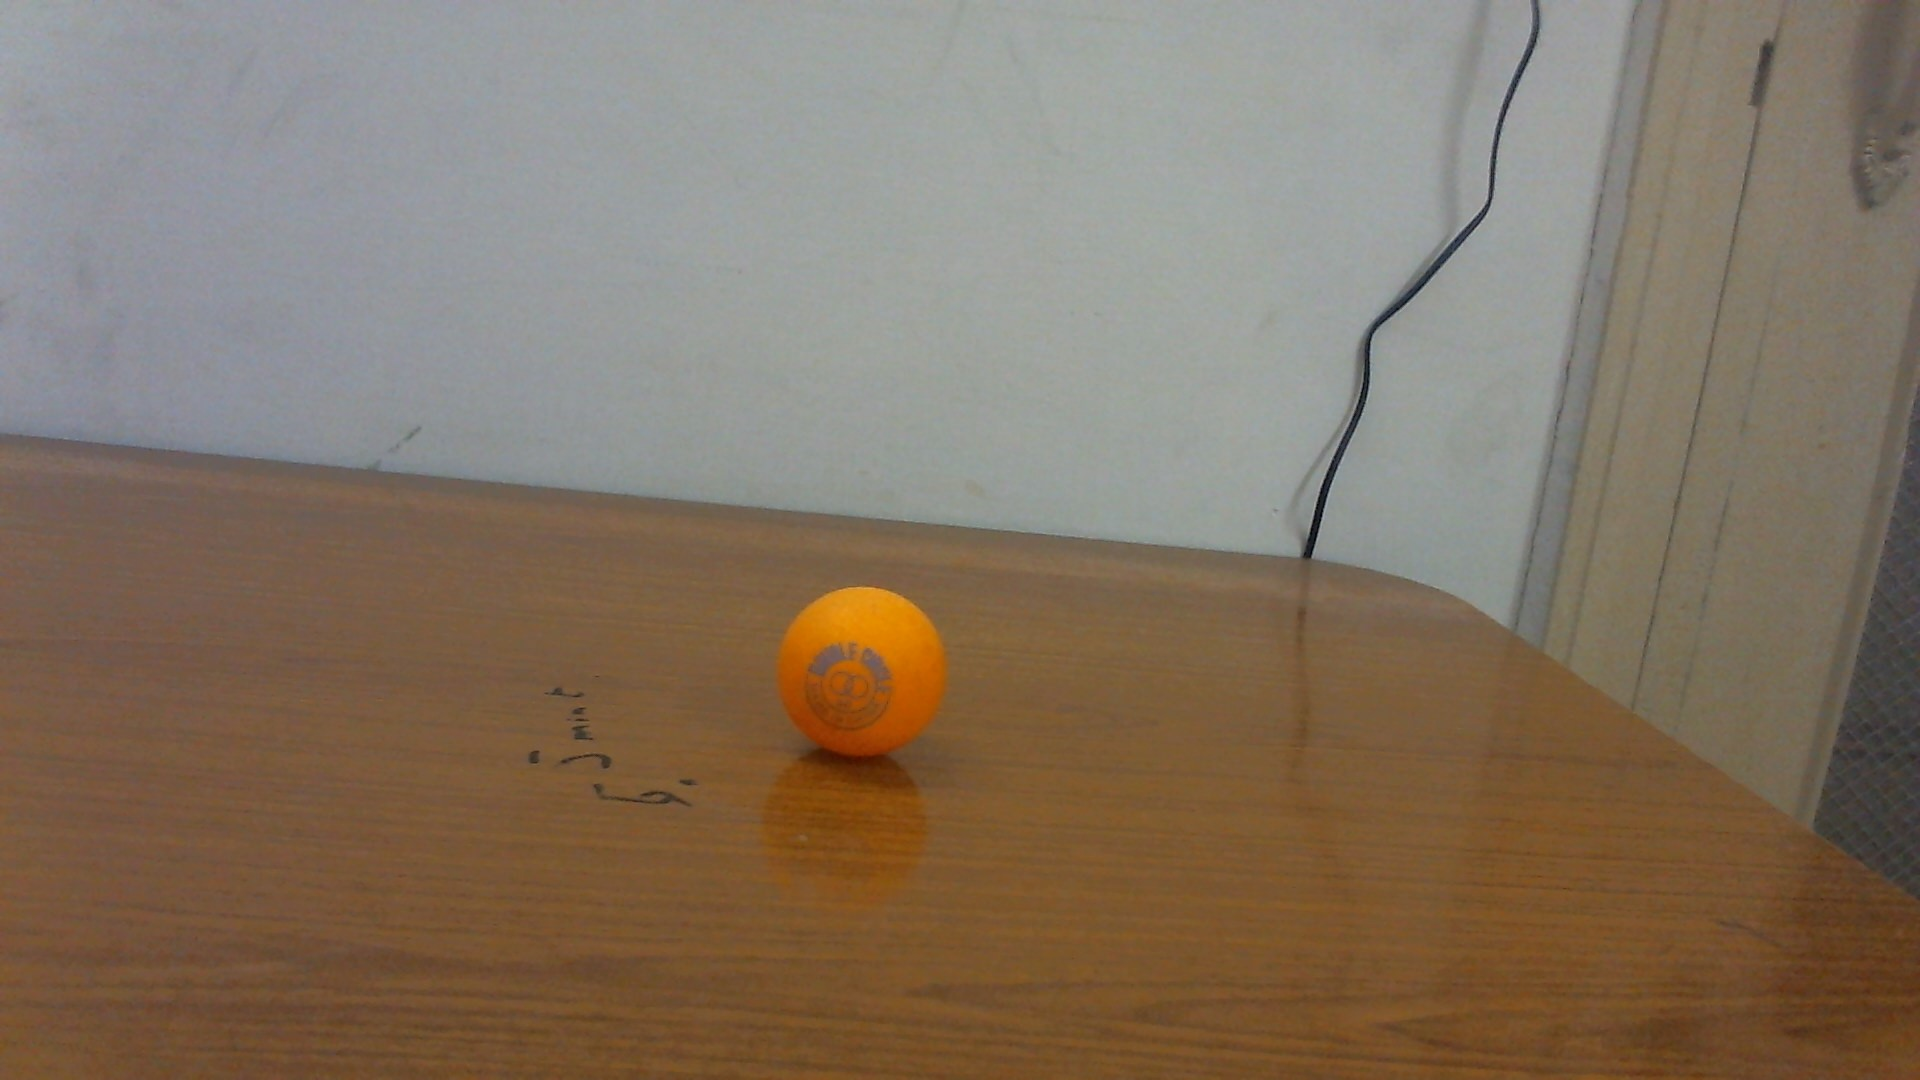ball: (775, 587, 949, 756)
